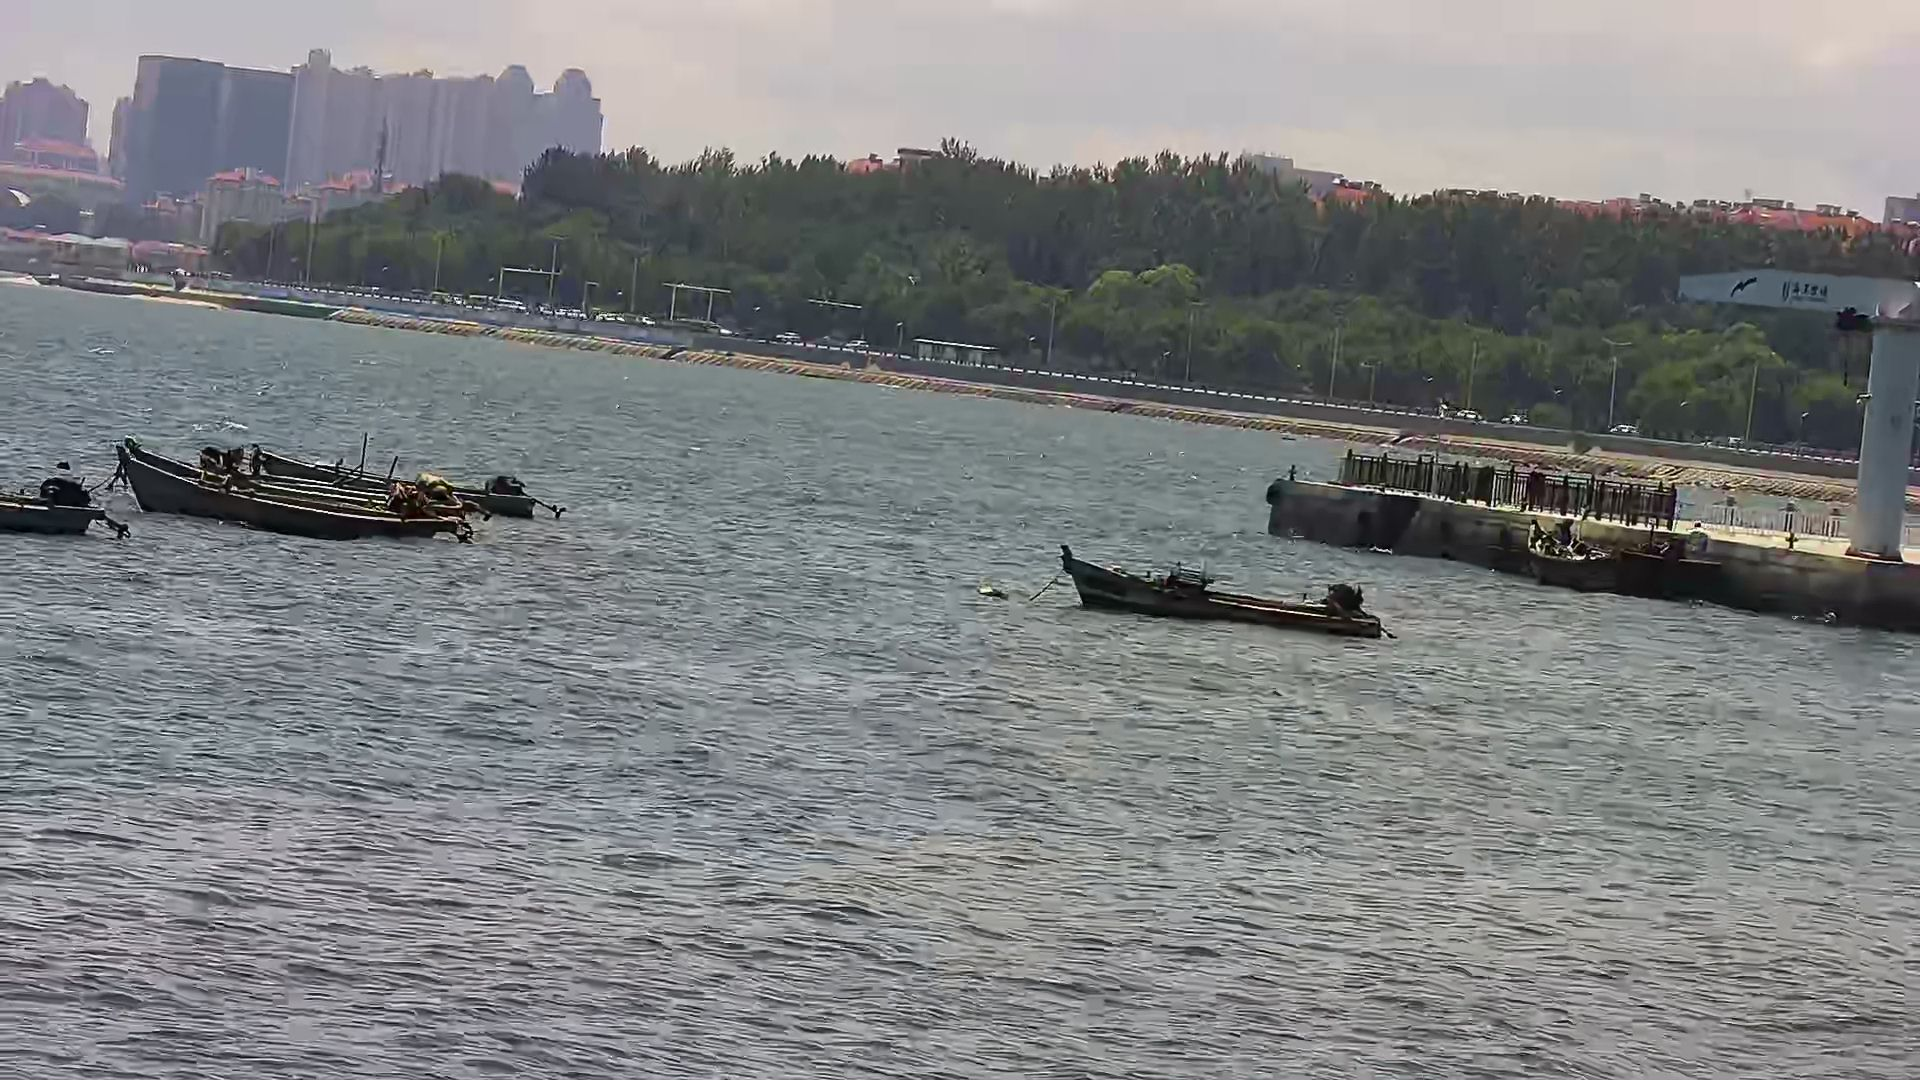boat: (117, 427, 483, 553), (1052, 533, 1398, 645), (240, 421, 570, 525), (1611, 529, 1735, 607), (1516, 513, 1610, 593)
harbor: (1249, 382, 1913, 615)
rubbish: (967, 580, 1011, 609)
